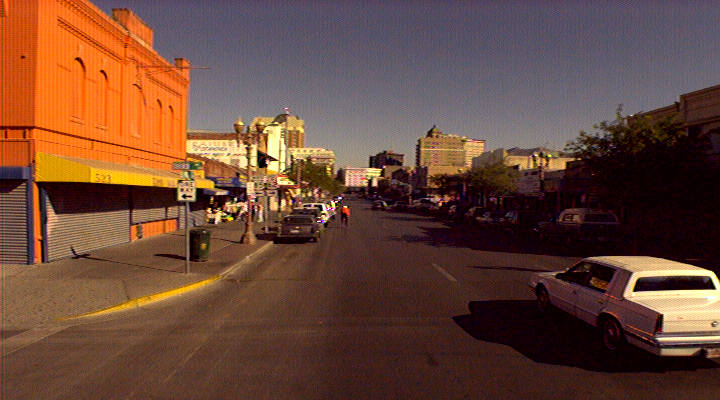Ramp: (1, 274, 142, 332)
